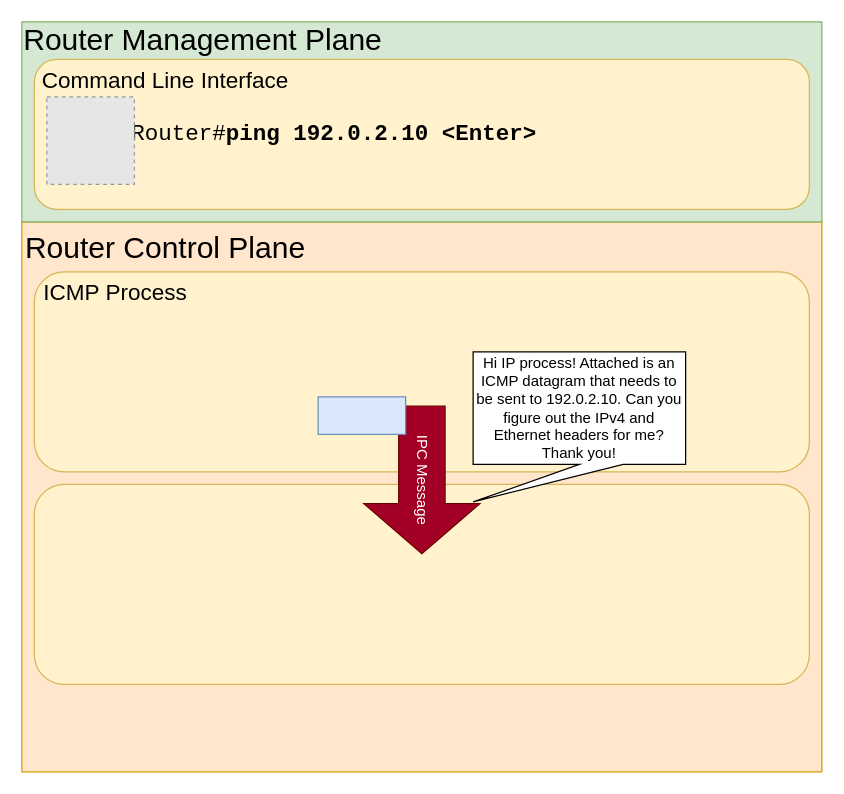
The diagram is 844 pixels wide and 794 high, and some of its shapes have lost their labels. Grey dashed boxes stand in for pictures. The shapes that lost their labels are listed below. From the top down, each one's box as (x1, y1, x2, y2) in pixels, then its label:
(317, 396, 406, 434): ICMP Datagram
(33, 483, 809, 684): IP Process
